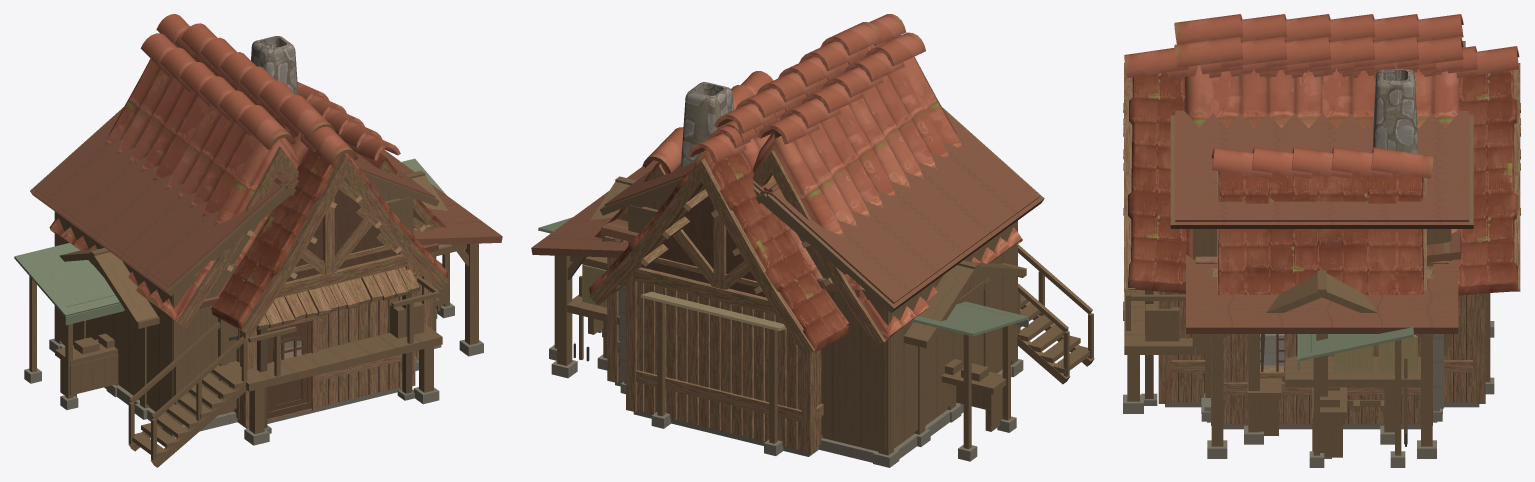
The model's file is catalog.glb.
The picture shows the model from 3 angles, left to right: view 1: azimuth 30°, elevation 25°; view 2: azimuth 150°, elevation 25°; view 3: azimuth 270°, elevation 25°; orthographic projection. The views are drawn at different scales.
Visible parts, largest first — view 1: Wall_WoodWear_Door_Flat (×3), Roof_RoundTiles_4x4 (×4), facility-farm-roof, Roof_FlatTiles_4x6 (×2), facility-farm-walls, facility-granary-stairs, facility-granary-deck, facility-market-roof, Wall_Plaster_Door_Round, facility-farm-supports, facility-lumber-roof, facility-market-supports (+13 smaller); view 2: Wall_WoodWear_Door_Flat (×2), Roof_RoundTiles_4x4 (×4), facility-farm-roof, facility-farm-walls, Roof_FlatTiles_4x6 (×2), facility-market-supports, facility-farm-supports, facility-granary-stairs, Wall_Plaster_Door_Round, facility-lumber-roof, facility-market-roof, Prop_Chimney2 (+9 smaller); view 3: Roof_RoundTiles_4x4 (×4), Roof_FlatTiles_4x6 (×2), facility-granary-roof, Roof_2x4_FlatTile (×2), Wall_WoodWear_Door_Flat (×2), facility-farm-roof, Wall_Plaster_Door_Round (×2), facility-farm-core, facility-farm-supports, Prop_Chimney2, facility-market-supports, facility-granary-deck (+13 smaller).
Boxes of the visible parts, box(x1,y1,x2,y2) form: Wall_WoodWear_Door_Flat (×3): box(234, 154, 449, 426); Roof_RoundTiles_4x4 (×4): box(49, 23, 400, 321); facility-farm-roof: box(30, 107, 502, 296); Roof_FlatTiles_4x6 (×2): box(156, 14, 447, 330); facility-farm-walls: box(55, 212, 259, 422); facility-granary-stairs: box(128, 322, 247, 467); facility-granary-deck: box(224, 274, 442, 391); facility-market-roof: box(14, 158, 445, 325); Wall_Plaster_Door_Round: box(50, 146, 440, 359); facility-farm-supports: box(49, 211, 483, 438); facility-lumber-roof: box(59, 170, 466, 328); facility-market-supports: box(24, 253, 454, 409); Wall_WoodWear_Door_Flat (×2): box(589, 35, 900, 454); Roof_RoundTiles_4x4 (×4): box(616, 22, 1022, 340); facility-farm-roof: box(531, 107, 1044, 312); facility-farm-walls: box(797, 221, 1016, 450); Roof_FlatTiles_4x6 (×2): box(589, 14, 906, 352); facility-market-supports: box(549, 255, 1016, 461); facility-farm-supports: box(551, 220, 1023, 467); facility-granary-stairs: box(1017, 244, 1094, 384); Wall_Plaster_Door_Round: box(598, 150, 1022, 382); facility-lumber-roof: box(570, 176, 1026, 348); facility-market-roof: box(538, 217, 1028, 336); Prop_Chimney2: box(681, 82, 733, 166); Roof_RoundTiles_4x4 (×4): box(1174, 14, 1463, 285); Roof_FlatTiles_4x6 (×2): box(1124, 46, 1519, 295); facility-granary-roof: box(1170, 110, 1473, 228); Roof_2x4_FlatTile (×2): box(1218, 171, 1423, 294); Wall_WoodWear_Door_Flat (×2): box(1123, 63, 1520, 403); facility-farm-roof: box(1186, 254, 1458, 333); Wall_Plaster_Door_Round (×2): box(1195, 41, 1465, 425); facility-farm-core: box(1247, 335, 1420, 435); facility-farm-supports: box(1207, 334, 1436, 458); Prop_Chimney2: box(1373, 69, 1418, 153); facility-market-supports: box(1309, 293, 1494, 467); facility-granary-deck: box(1124, 290, 1194, 354).
Size of the model in its own units: 9.93 by 6.9 by 7.59.
11 materials, 8 textured.
